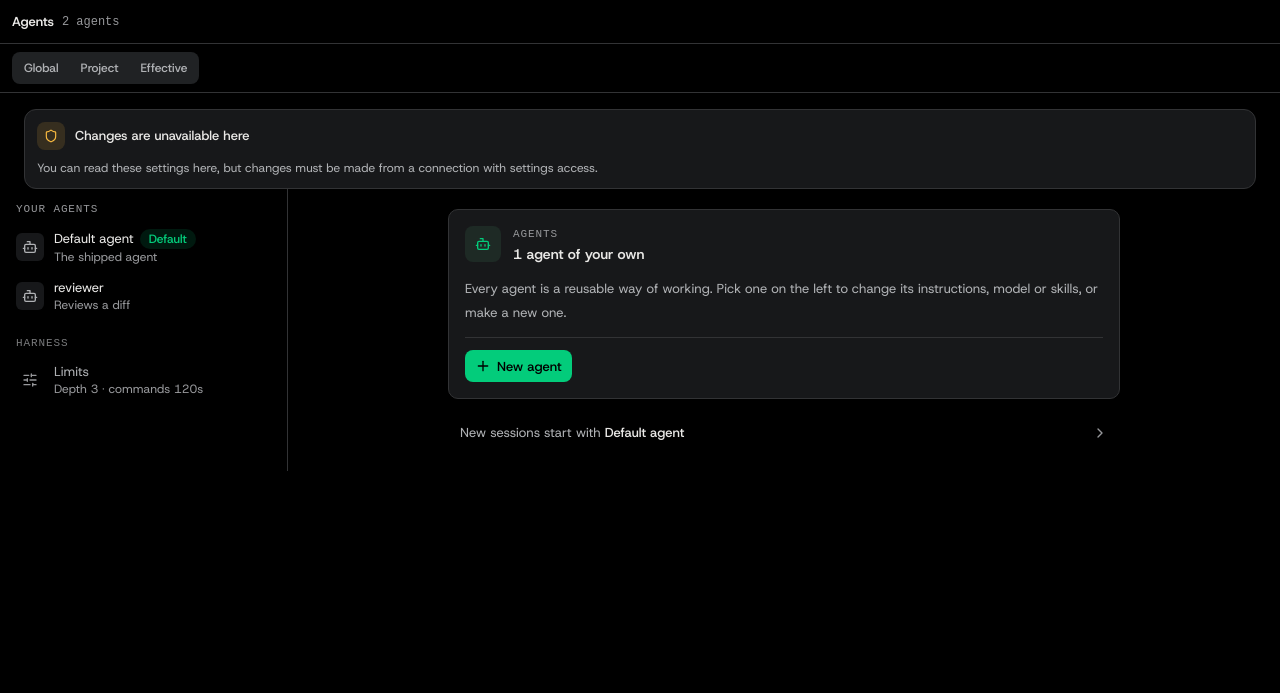
Test case: Agents page › keeps definitions readable and hides every settings-denied editor and policy control
Step 1. Click the option "reviewer Reviews a diff" → (79, 288), box [8, 273, 279, 319]
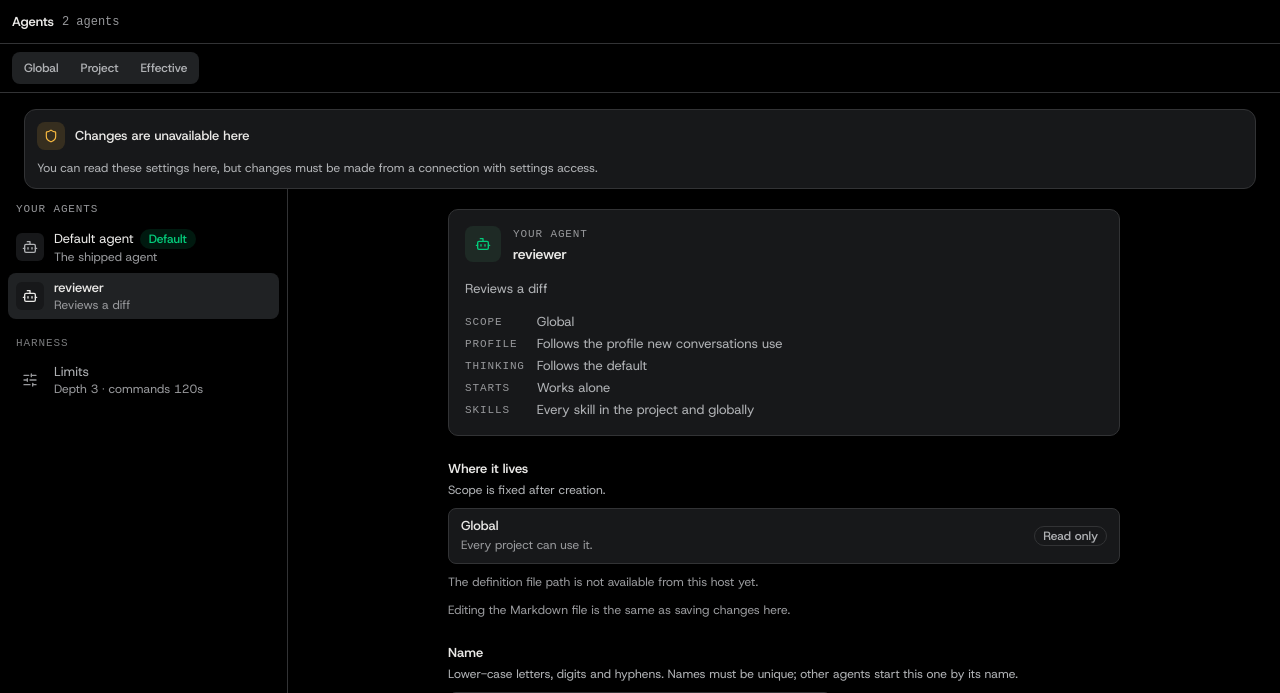
Check: the text "Reviews a diff" is shown, box [54, 297, 130, 313]
Check: the text "read these settings" is shown, box [37, 160, 598, 176]
Step 2. Click the option "Limits Depth 3 · commands 120s" → (144, 380), box [8, 357, 279, 403]
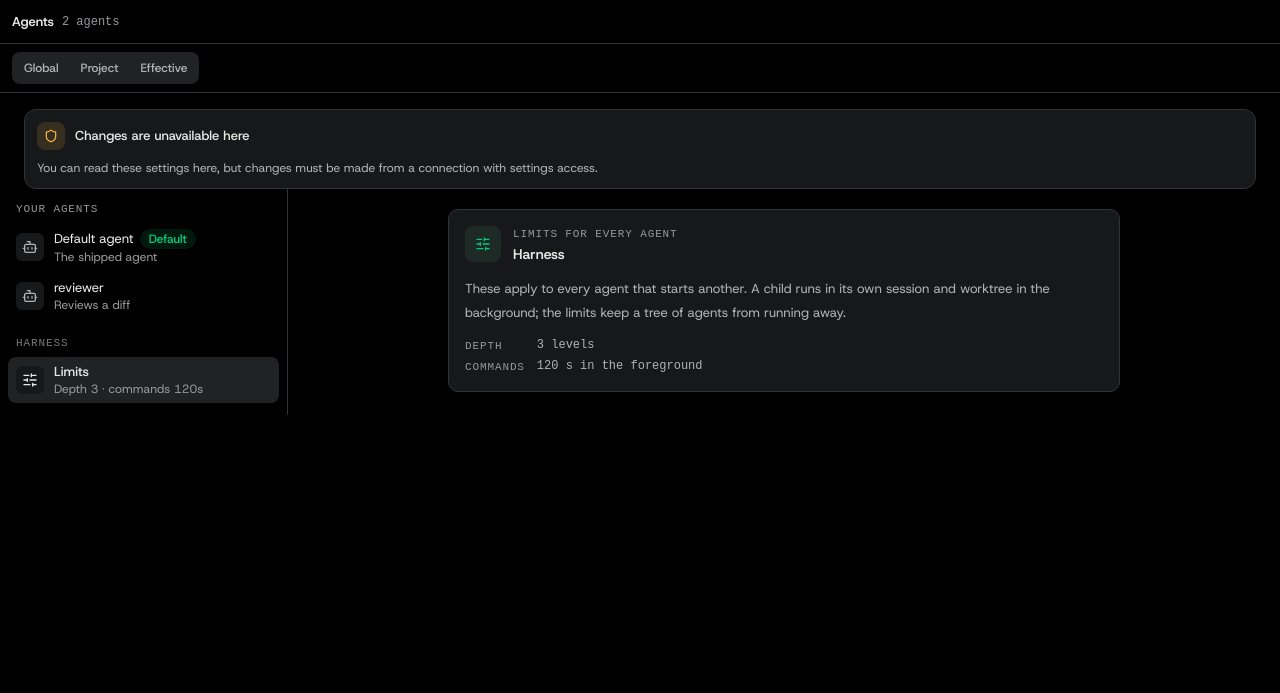
Check: the text "Limits for every agent" is shown, box [513, 228, 678, 240]
